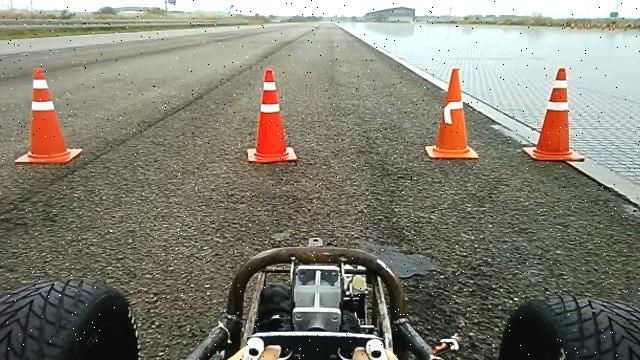red cone: (14, 66, 83, 166), (523, 66, 585, 162), (425, 66, 479, 160), (246, 67, 298, 164)
